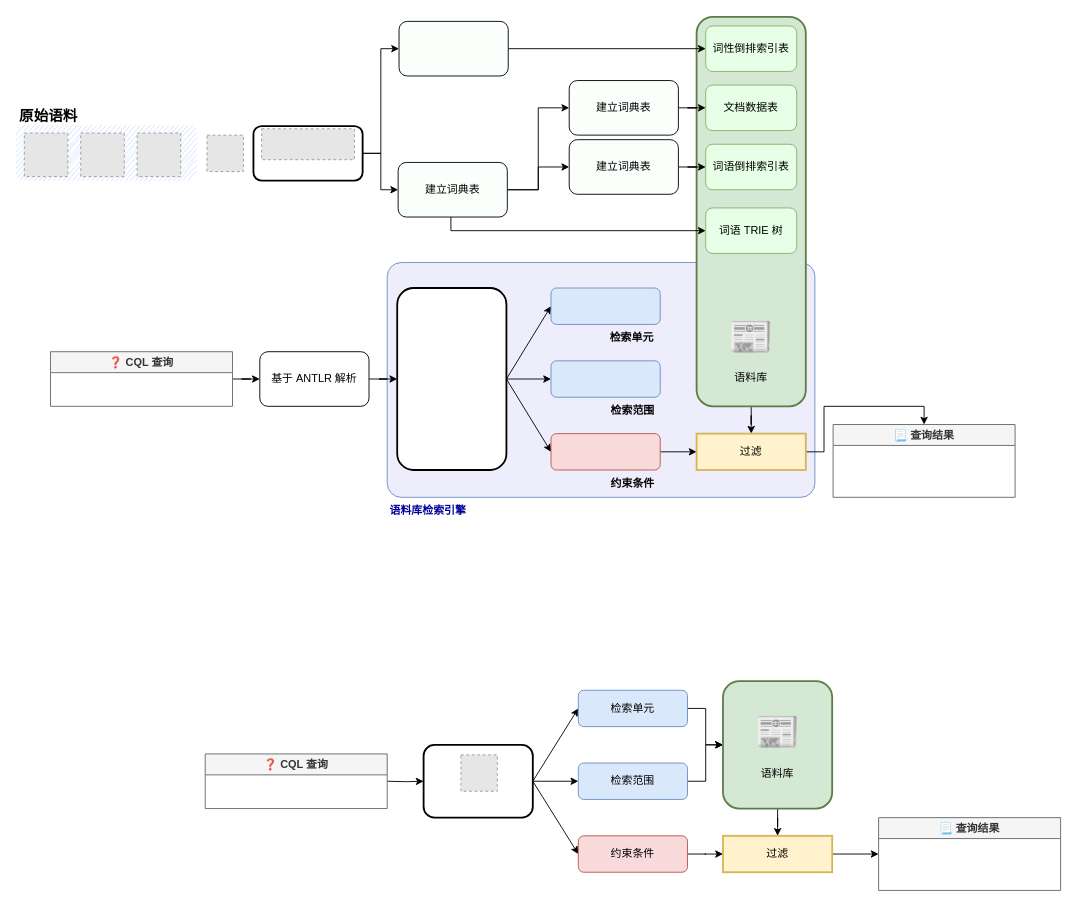
The diagram is 1077 pixels wide and 906 high, and some of its shapes have lost their labels. Grey dashed boxes stand in for pictures. Each missing label, with the box of its shape:
ANTLR 解析器: (422, 743, 533, 818)
分词 & 词性标注: (252, 125, 363, 181)
建立词性表: (398, 20, 508, 76)
语料库检索式: (396, 287, 507, 470)
